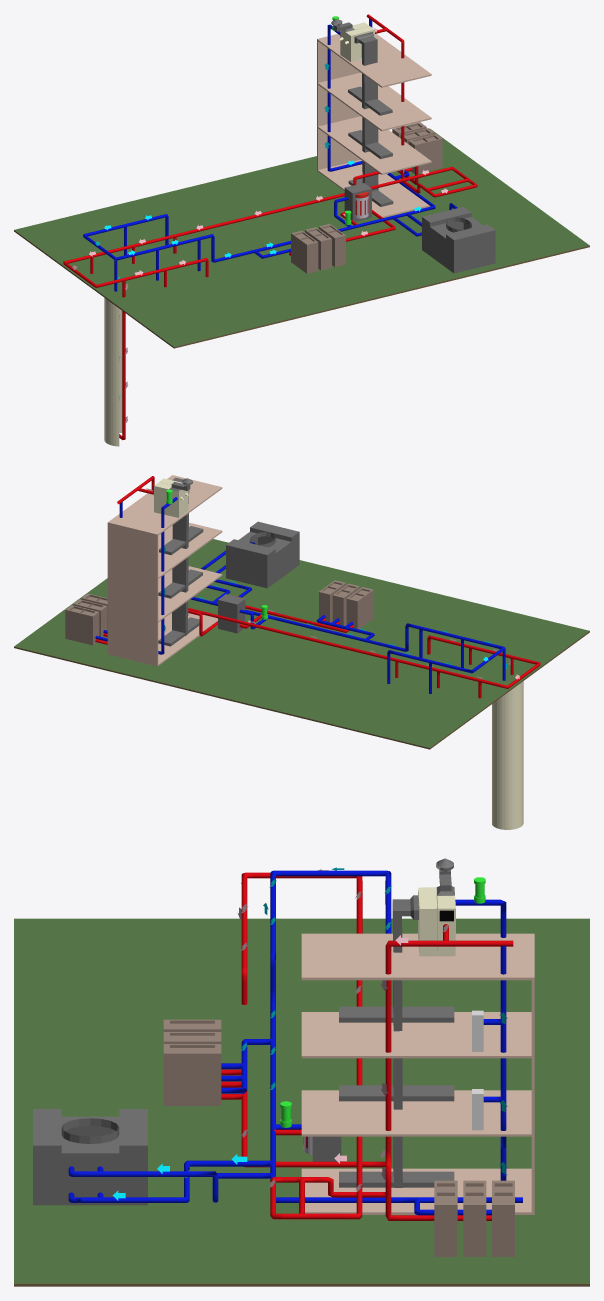
File: mainHotV2.6.glb
3 views of the same model, one above another, from view 1: azimuth 30°, elevation 25°; view 2: azimuth 150°, elevation 25°; view 3: azimuth 270°, elevation 25° (orthographic). The views are drawn at different scales.
Visible parts, largest first — view 1: ground, building, pipes.003, Air Cooler, LeftCeilingCooler, well, RMA1, RMA2, Boiler; view 2: ground, building, pipes.003, well, Air Cooler, LeftCeilingCooler, RMA1, RMA2, RightCeilingHeater, Boiler; view 3: ground, building, pipes.003, Air Cooler, LeftCeilingCooler, RMA2, RMA1, RightCeilingHeater, Boiler.
Boxes of the visible parts, x1,y1,x2,y2 form: ground: (14, 128, 589, 348); building: (317, 33, 431, 217); pipes.003: (63, 14, 477, 440); Air Cooler: (422, 207, 495, 273); LeftCeilingCooler: (345, 26, 393, 206); well: (104, 298, 122, 446); RMA1: (291, 224, 345, 273); RMA2: (392, 122, 442, 173); Boiler: (344, 183, 371, 221); ground: (14, 539, 589, 749); building: (107, 475, 222, 666); pipes.003: (95, 476, 540, 698); well: (492, 681, 523, 829); Air Cooler: (226, 521, 299, 588); LeftCeilingCooler: (158, 477, 203, 646); RMA1: (319, 580, 373, 629); RMA2: (65, 593, 107, 645); RightCeilingHeater: (154, 478, 192, 517); Boiler: (218, 594, 245, 633); ground: (14, 918, 589, 1286); building: (301, 933, 534, 1214); pipes.003: (68, 870, 522, 1220); Air Cooler: (33, 1109, 147, 1205); LeftCeilingCooler: (339, 887, 454, 1187); RMA2: (434, 1180, 514, 1256); RMA1: (163, 1019, 221, 1105); RightCeilingHeater: (436, 858, 455, 956); Boiler: (303, 1136, 341, 1161).
Bounding box in the file's own units: 31.12 × 21.88 × 20.
